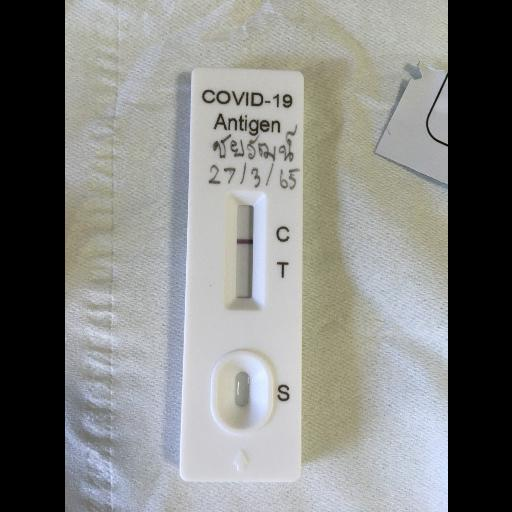Neg: (186, 68, 302, 482)
